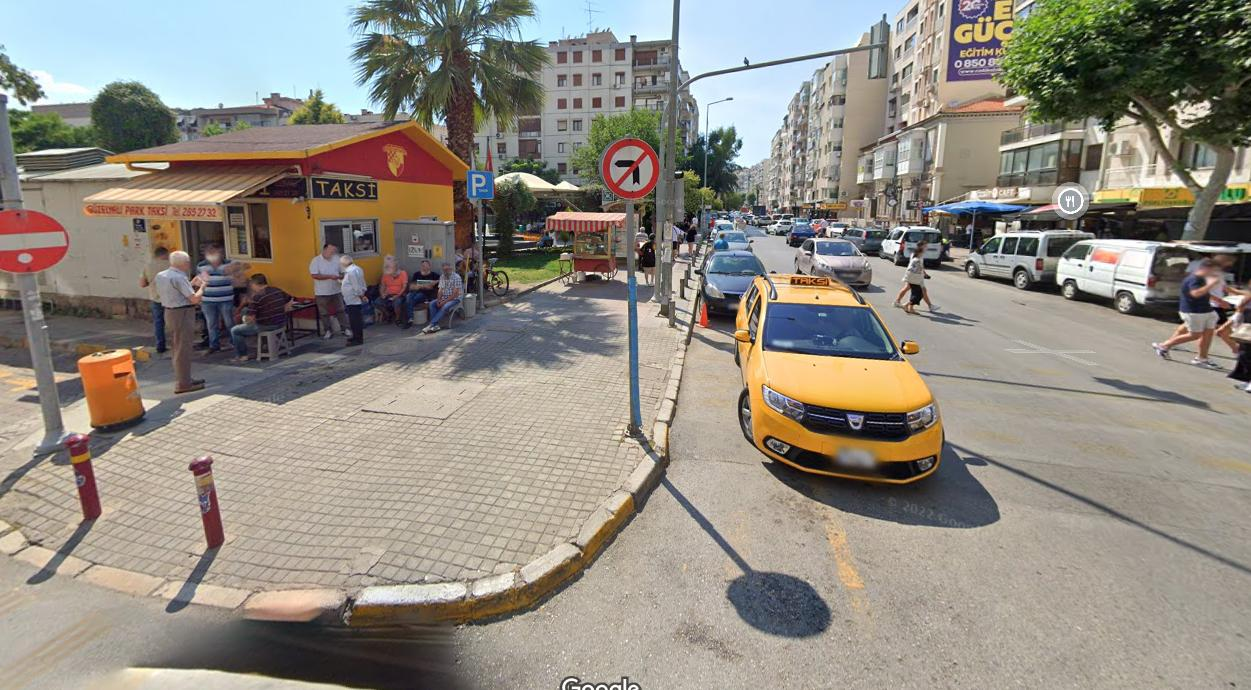leftturnsareforbidden: (608, 133, 664, 208)
park: (466, 168, 495, 202)
